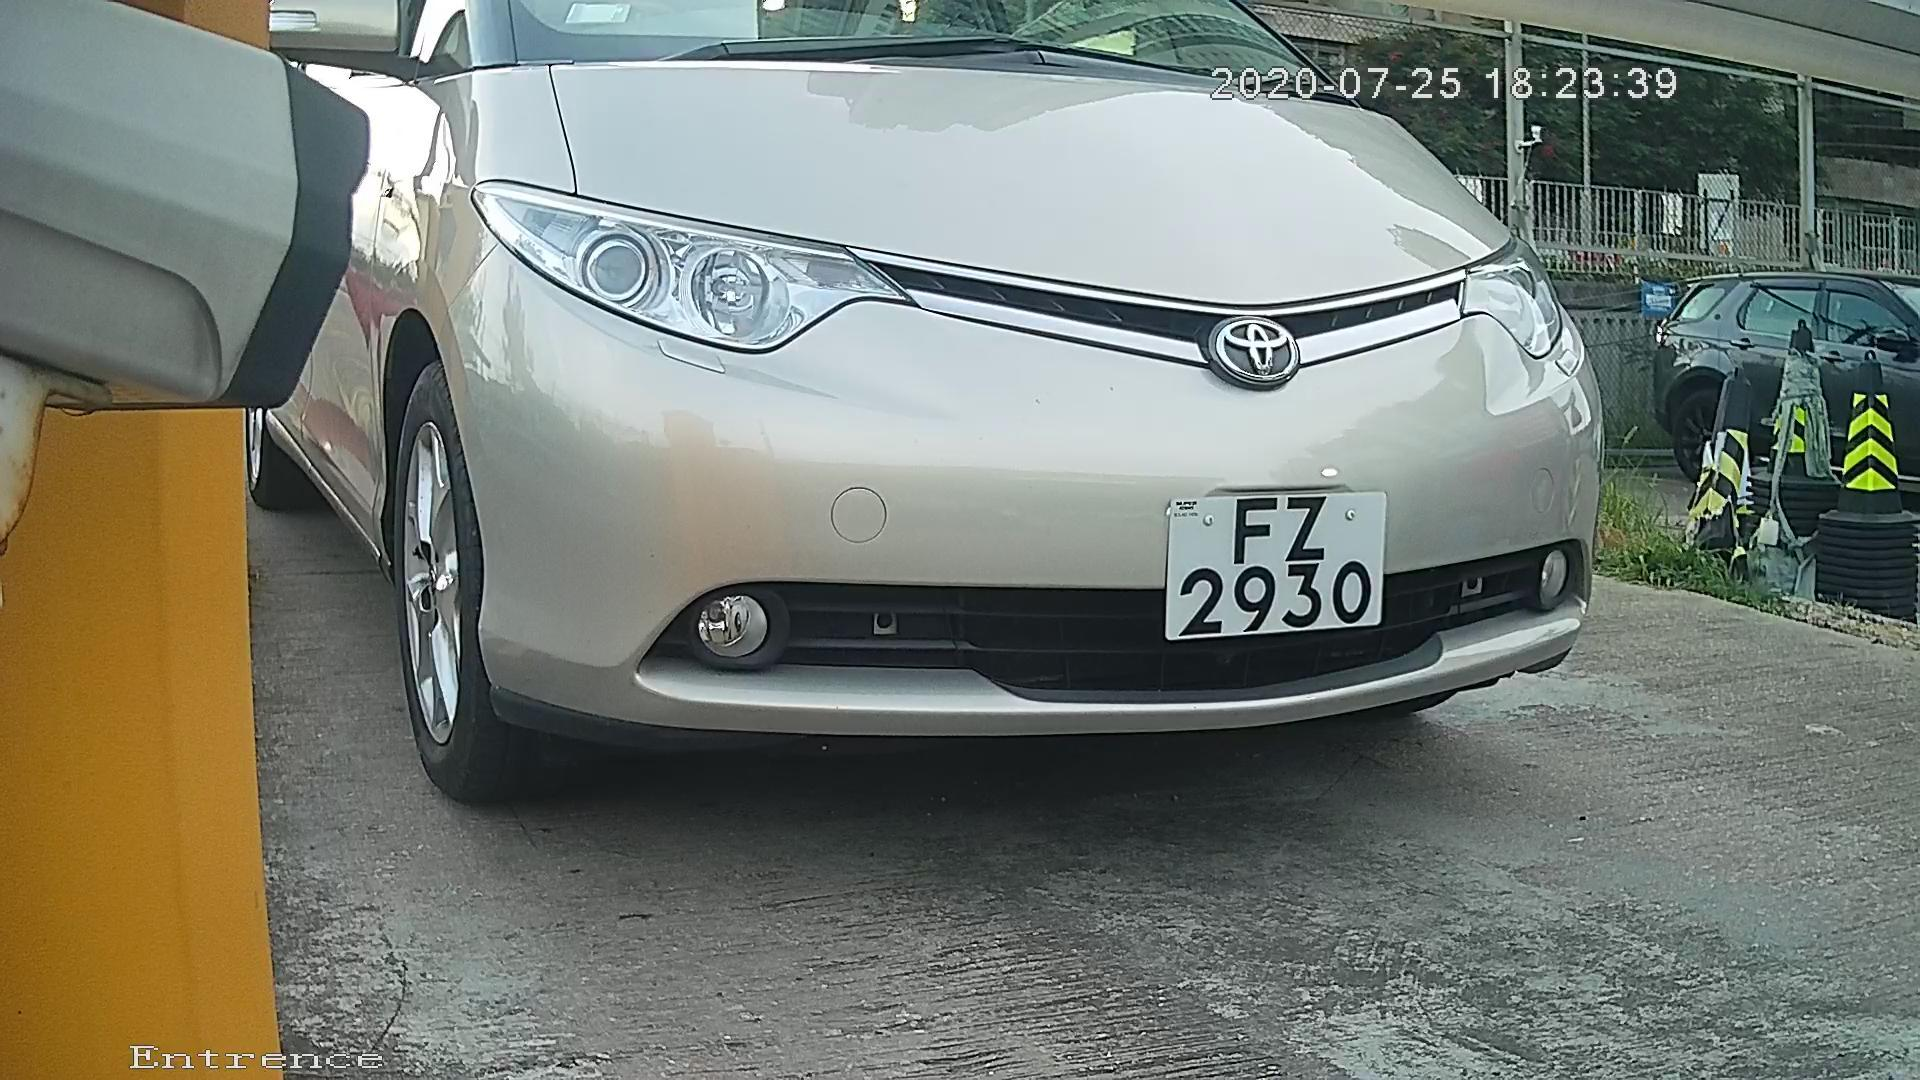privatecar: (326, 5, 1663, 815)
